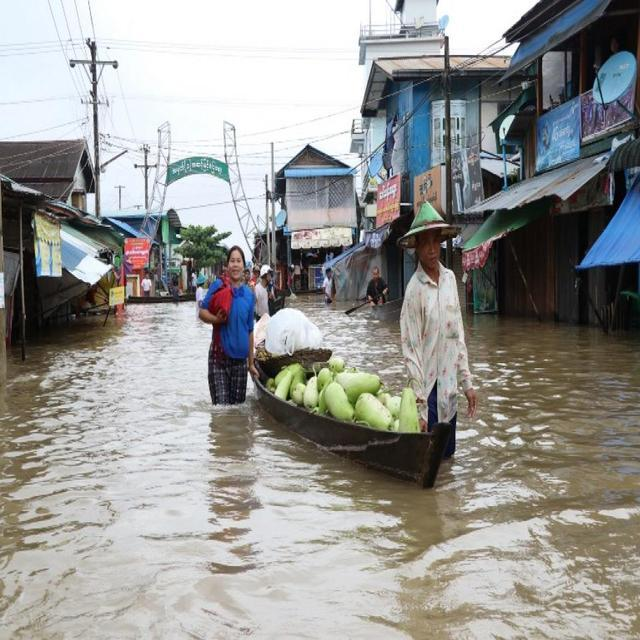Person-RiskLevel2: (391, 200, 478, 475), (190, 247, 251, 421)
